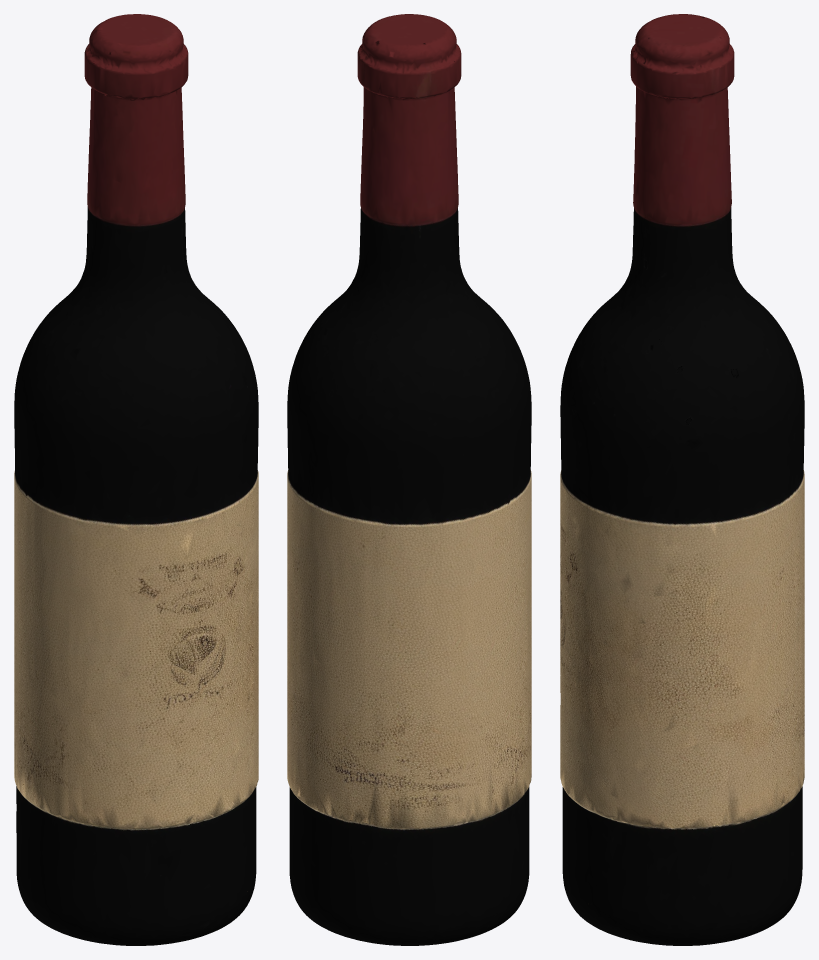
The model's file is grapevyne-meshy-bottle.desktop.glb.
3 renders of one model, left to right at view 1: azimuth 30°, elevation 25°; view 2: azimuth 150°, elevation 25°; view 3: azimuth 270°, elevation 25°, orthographic.
Parts seen in each view (by area): view 1: Mesh_0; view 2: Mesh_0; view 3: Mesh_0.
Boxes of the visible parts, left/top/right/bottom form: Mesh_0: left=14, top=14, right=258, bottom=945; Mesh_0: left=287, top=14, right=531, bottom=945; Mesh_0: left=560, top=14, right=804, bottom=945.
Bounding box in the file's own units: 0.4805 × 1.9 × 0.4807.
Materials: 1 (1 with a texture image).
